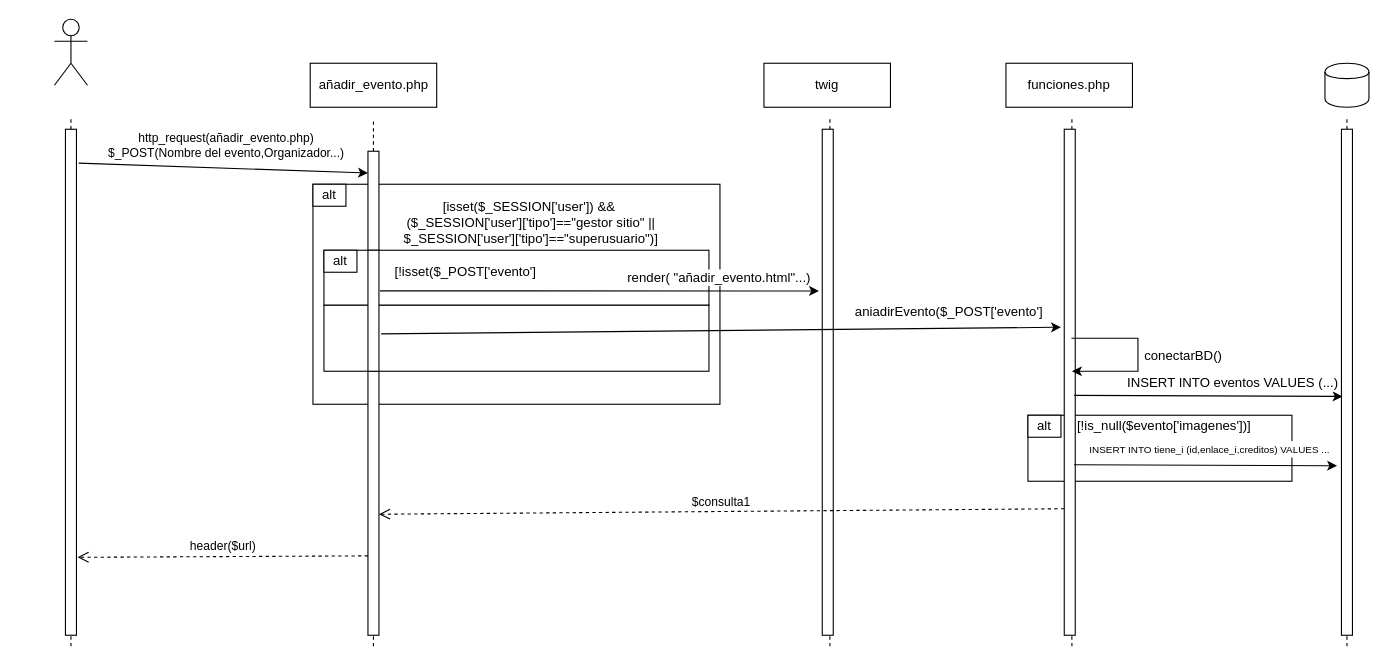
Image size: 1388x667. Some labels were removed from this diagram. The centre of each missing label's shape, as x and y in pixels:
"[else]" goes at point 516,337.
"bd" goes at point 1346,84.
"Usuario logueado" goes at point 70,51.
